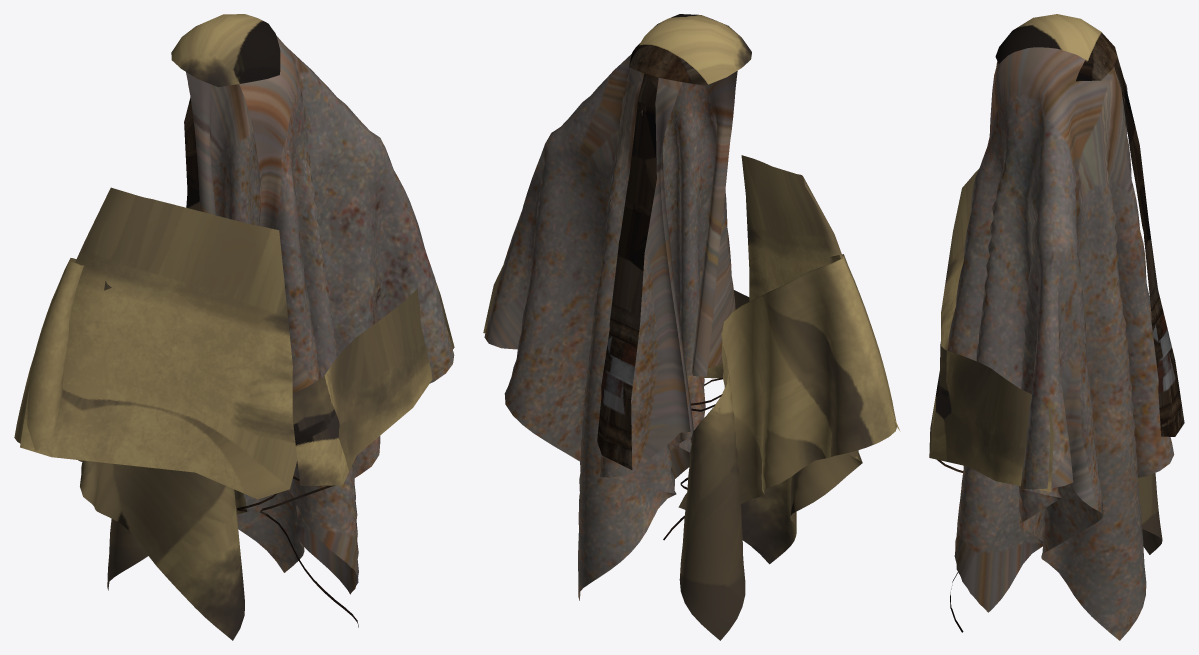
File: fantasma_puido.obj
3 renders of one model, left to right at view 1: azimuth 30°, elevation 25°; view 2: azimuth 150°, elevation 25°; view 3: azimuth 270°, elevation 25°, orthographic. The views are drawn at different scales.
Visible parts, largest first — view 1: Ghost; view 2: Ghost; view 3: Ghost.
Boxes of the visible parts, x1,y1,x2,y2 form: Ghost: (14,14,454,640); Ghost: (483,14,900,640); Ghost: (929,14,1184,640).
Size of the model in its own units: 1.42 by 1.87 by 0.7438.
